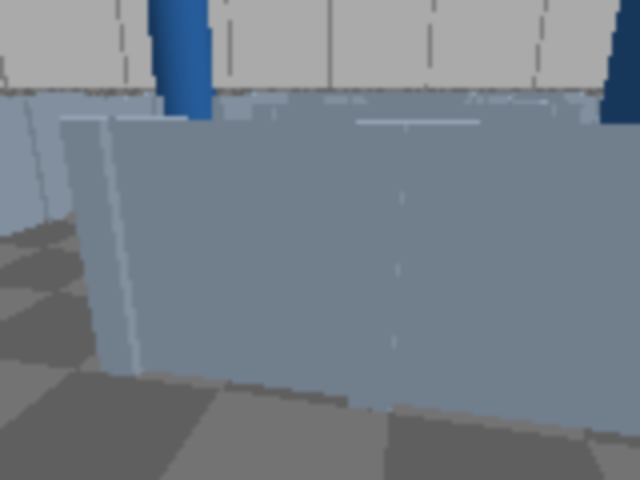person: (584, 0, 638, 238)
